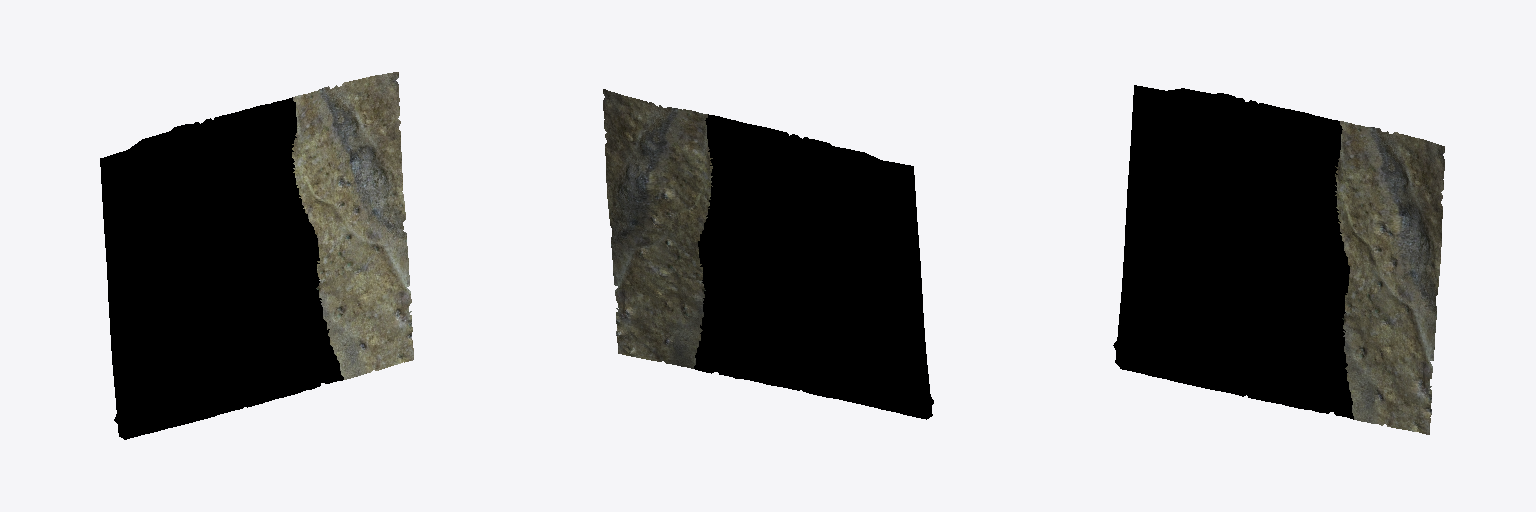
3 renders of one model, left to right at view 1: azimuth 30°, elevation 25°; view 2: azimuth 150°, elevation 25°; view 3: azimuth 330°, elevation 25°, orthographic.
Bounding box in the file's own units: 1.97 × 1.7 × 0.308.
Materials: 1 (1 with a texture image).